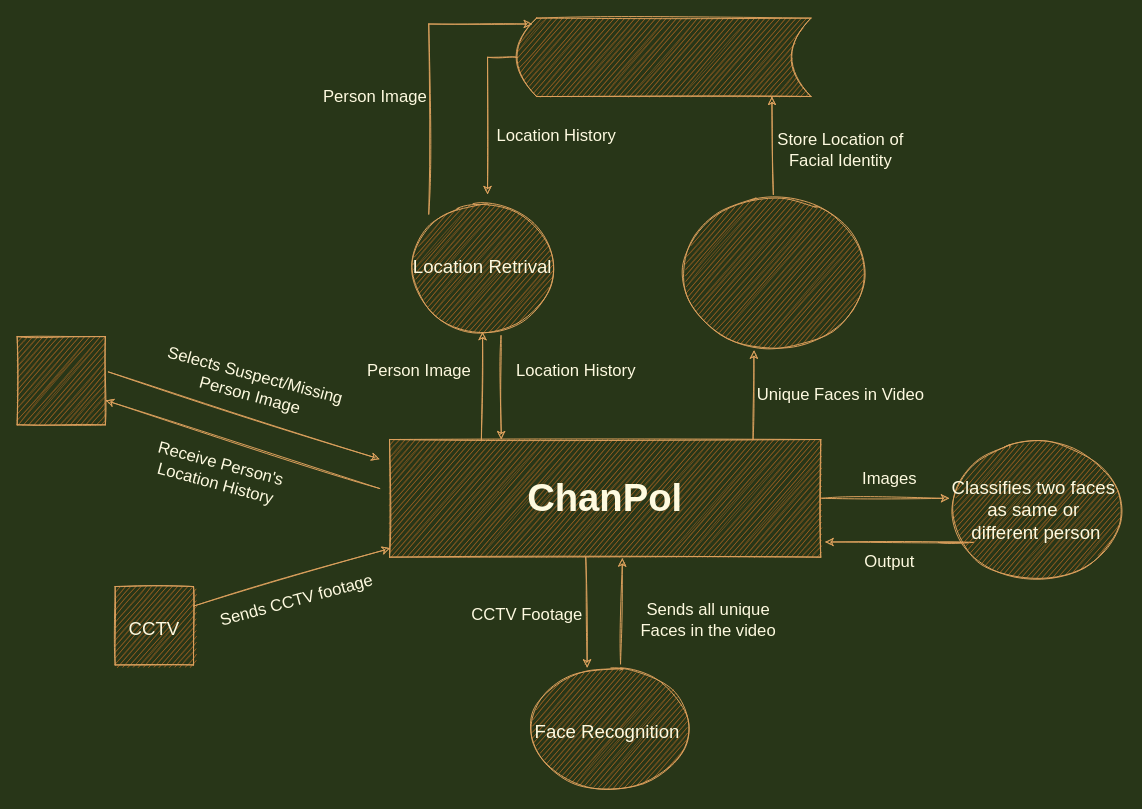
The diagram is 1142 pixels wide and 809 high, and some of its shapes have lost their labels. The shapes that lost their labels are listed below. From the top down, each one's centre as x and y in pixels, then its label:
At point 663,57: "Face Database".
At point 774,272: "Inserts the location of the same facial Identity".
At point 60,380: "Police".
